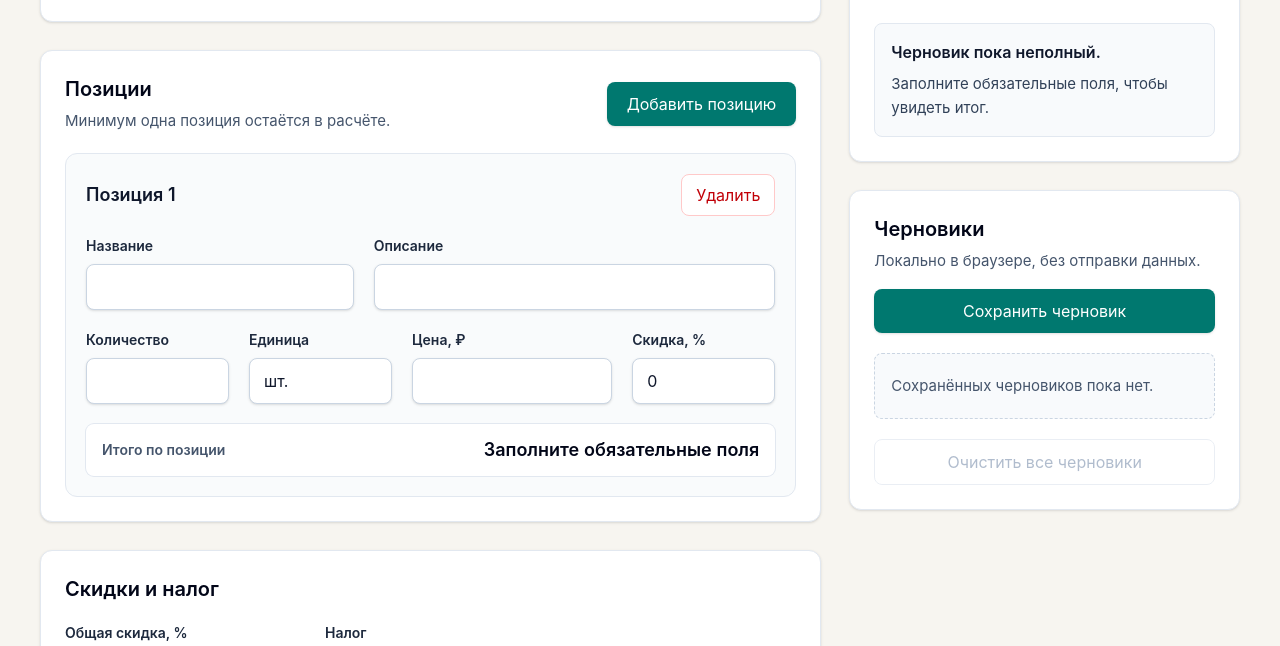
Test: QuoteFlow UI › shows a required-field error after blur
(page scrolled)
Click the field labelled "Название": (220, 287) [86,264,354,310]
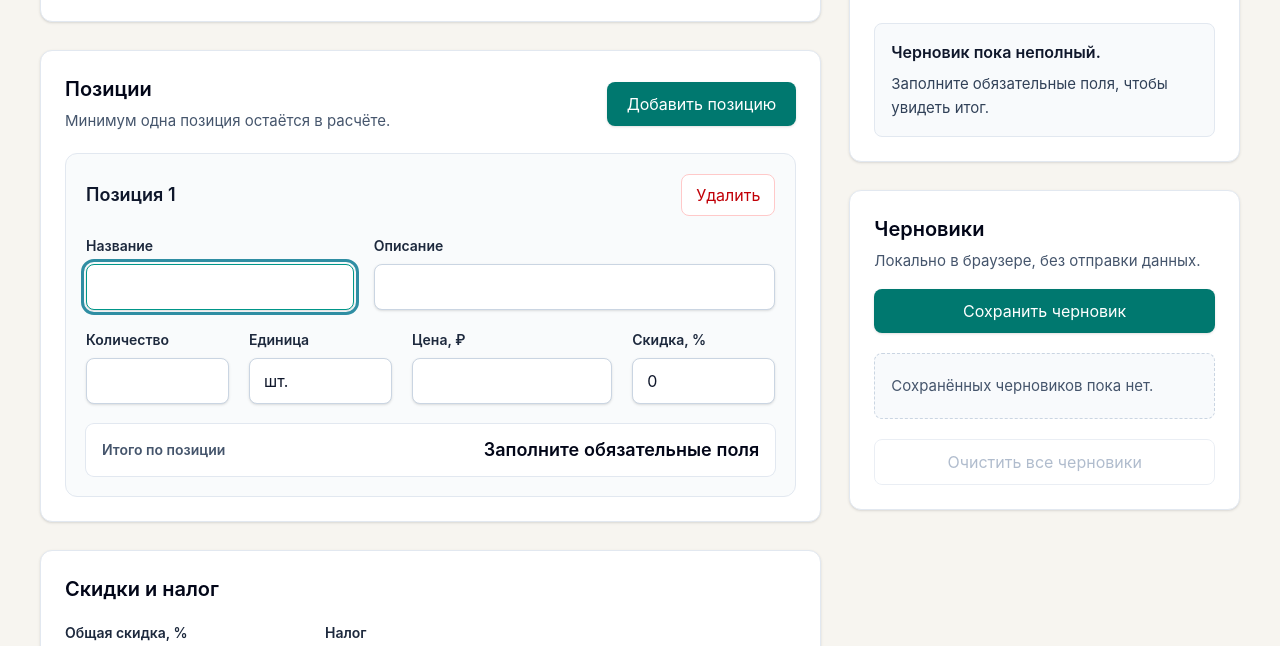
Press Tab
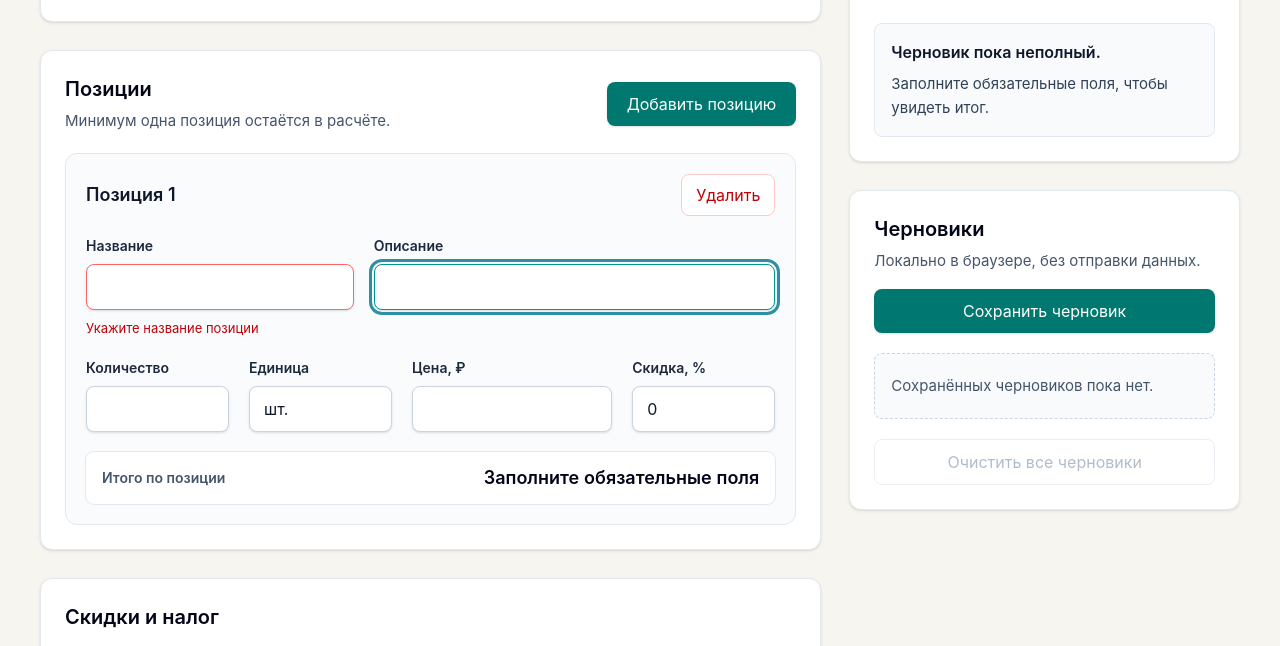
expect the text "Укажите название позиции" is shown: met, box [86,320,259,336]
